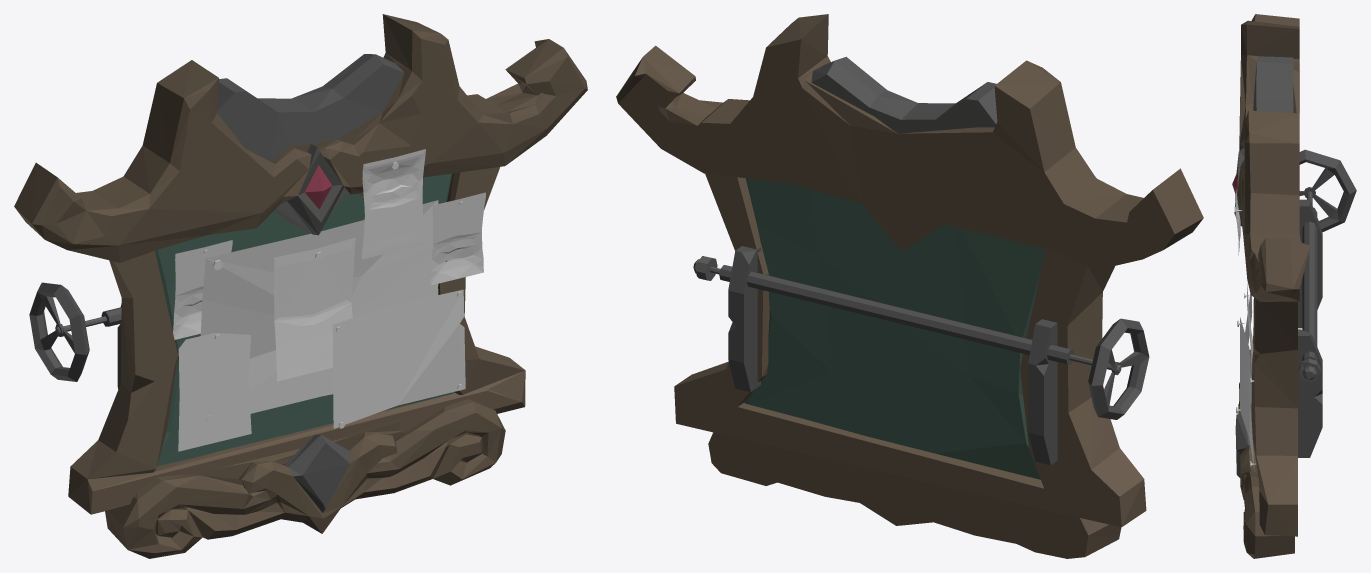
Rendered from Board_002.fbx.
3 renders of one model, left to right at view 1: azimuth 30°, elevation 25°; view 2: azimuth 150°, elevation 25°; view 3: azimuth 270°, elevation 25°, orthographic. The views are drawn at different scales.
Visible parts, largest first — view 1: Board_002.003_001, Board_002.003_006, Board_002.003_008, Board_002.003_007, Board_002.003_002, Board_002.003_003, Board_002.003_005, Board_002.003_004; view 2: Board_002.003_001; view 3: Board_002.003_001, Board_002.003_008, Board_002.003_005, Board_002.003_003.
Part boxes in pixels (x1,y1,x2,y2): Board_002.003_001: [14, 14, 587, 558]; Board_002.003_006: [200, 200, 438, 424]; Board_002.003_008: [332, 289, 465, 428]; Board_002.003_007: [274, 237, 355, 381]; Board_002.003_002: [178, 333, 251, 451]; Board_002.003_003: [362, 149, 425, 259]; Board_002.003_005: [430, 192, 485, 285]; Board_002.003_004: [173, 240, 232, 339]; Board_002.003_001: [616, 14, 1203, 558]; Board_002.003_001: [1232, 14, 1356, 558]; Board_002.003_008: [1236, 317, 1256, 470]; Board_002.003_005: [1244, 283, 1253, 374]; Board_002.003_003: [1234, 189, 1242, 255].
Size of the model in its own units: 1.58 by 1.3 by 0.3394.
